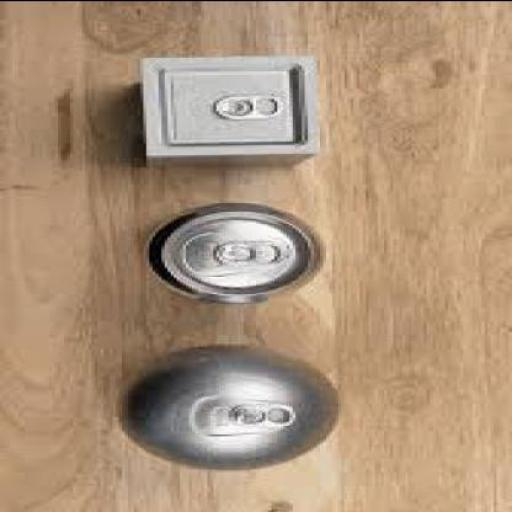metal: (122, 344, 338, 471), (143, 57, 323, 171), (149, 202, 326, 303)
